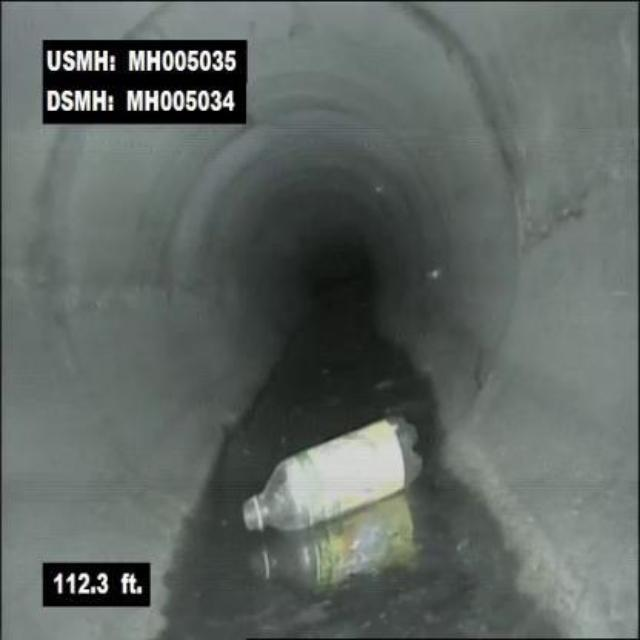Crack: (522, 138, 638, 260)
